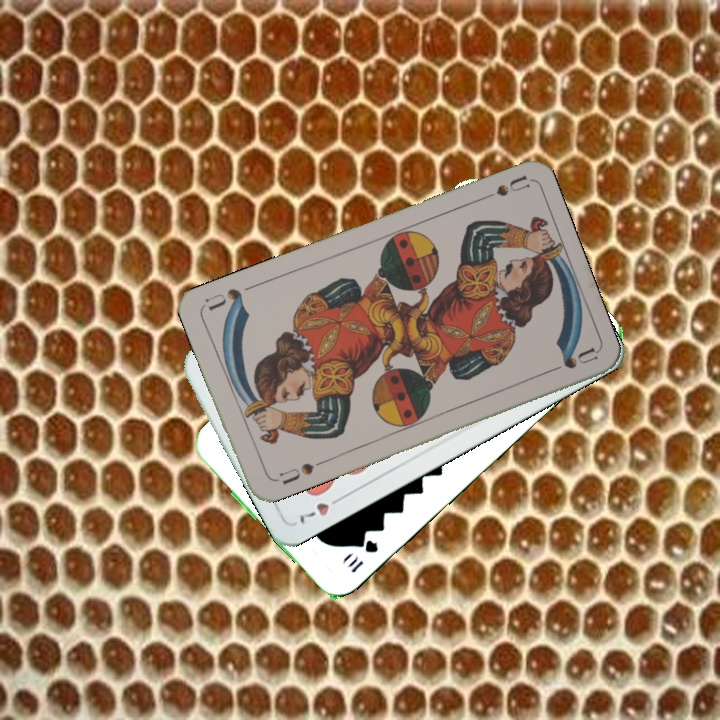G10: (342, 535, 381, 576)
H7: (293, 492, 347, 527)
SU: (472, 172, 531, 205), (275, 458, 317, 488)
